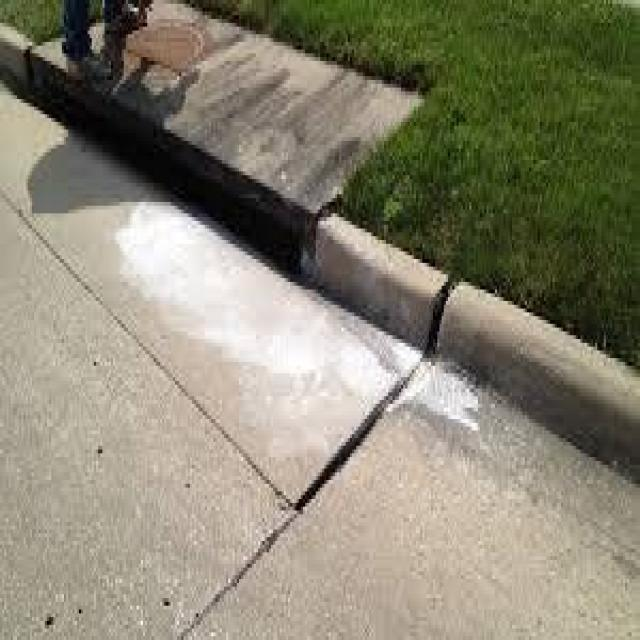curb: (1, 28, 638, 480)
